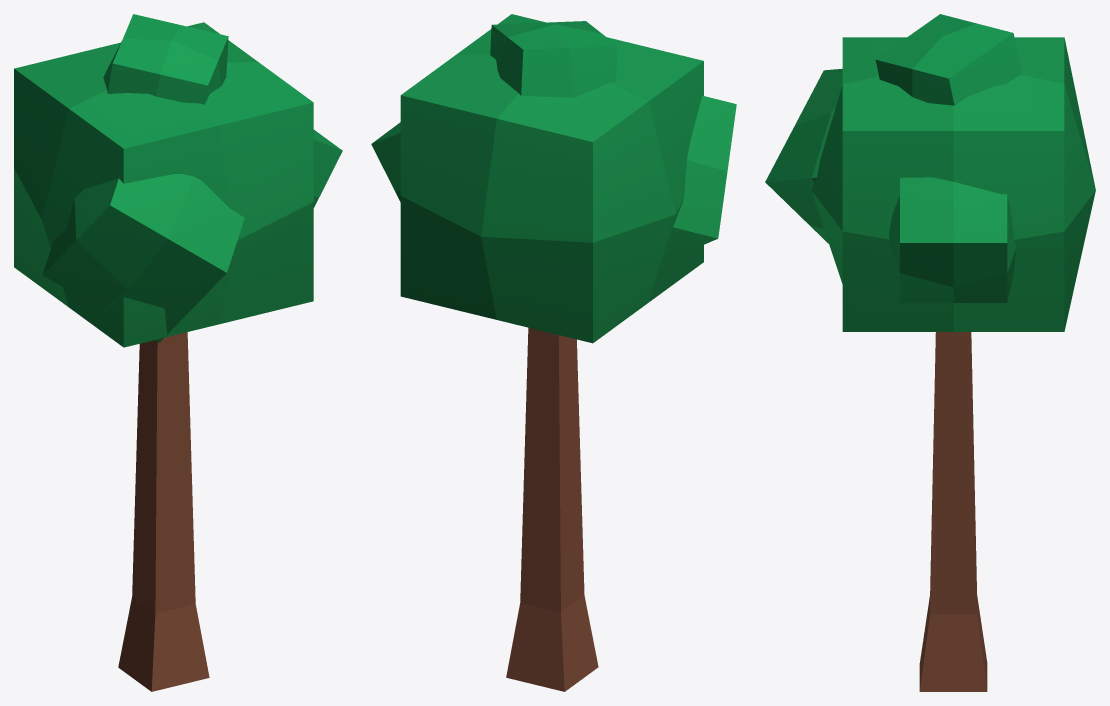
Rendered from Tree_43_gradient_green_vc.fbx.
3 renders of one model, left to right at view 1: azimuth 30°, elevation 25°; view 2: azimuth 150°, elevation 25°; view 3: azimuth 270°, elevation 25°, orthographic.
Parts seen in each view (by area): view 1: Tree_43_gradient_green_vc; view 2: Tree_43_gradient_green_vc; view 3: Tree_43_gradient_green_vc.
Part boxes in pixels (<box>): Tree_43_gradient_green_vc: <box>14,14,342,691</box>; Tree_43_gradient_green_vc: <box>371,14,736,691</box>; Tree_43_gradient_green_vc: <box>765,14,1095,691</box>.
Size of the model in its own units: 76.72 by 158 by 73.68.
